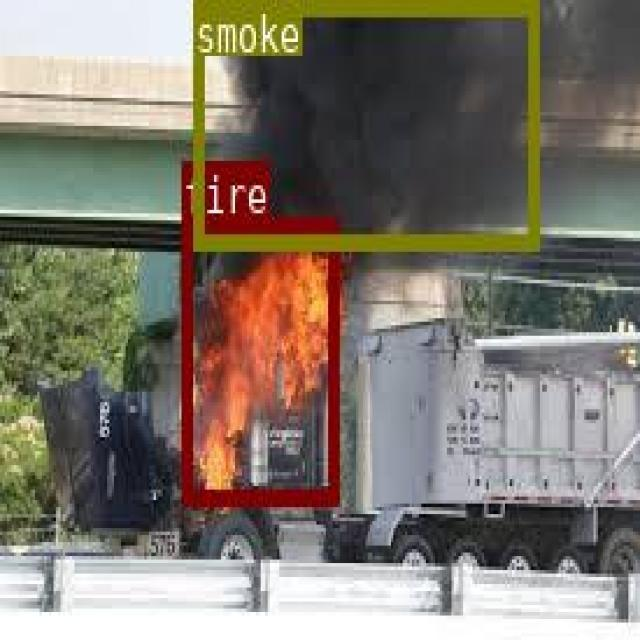fire: (180, 215, 338, 501)
smoke: (193, 0, 535, 245)
